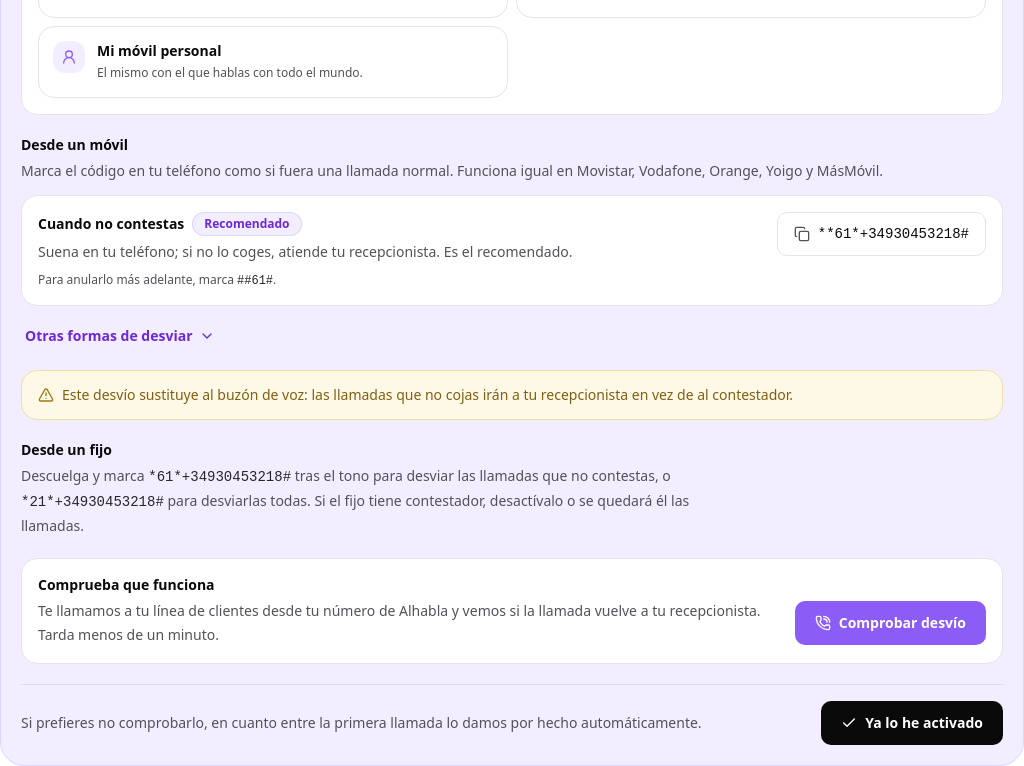
it: CallForwardingCard · «Comprobar desvío» › si no llega respuesta en 25 consultas (50 s) lo dice y ofrece repetir
(page scrolled)
Click the button "Comprobar desvío" at (890, 623), box [795,601,986,645]
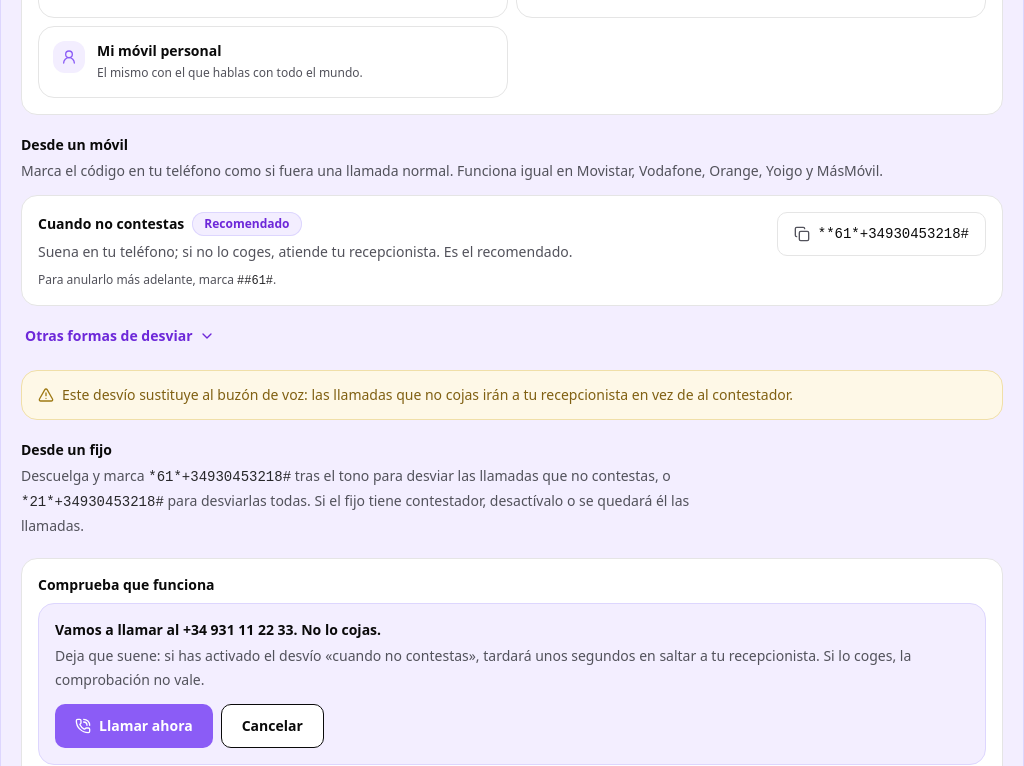
Click the button "Llamar ahora" at (134, 726), box [55,704,213,748]
Wait 52000 ms
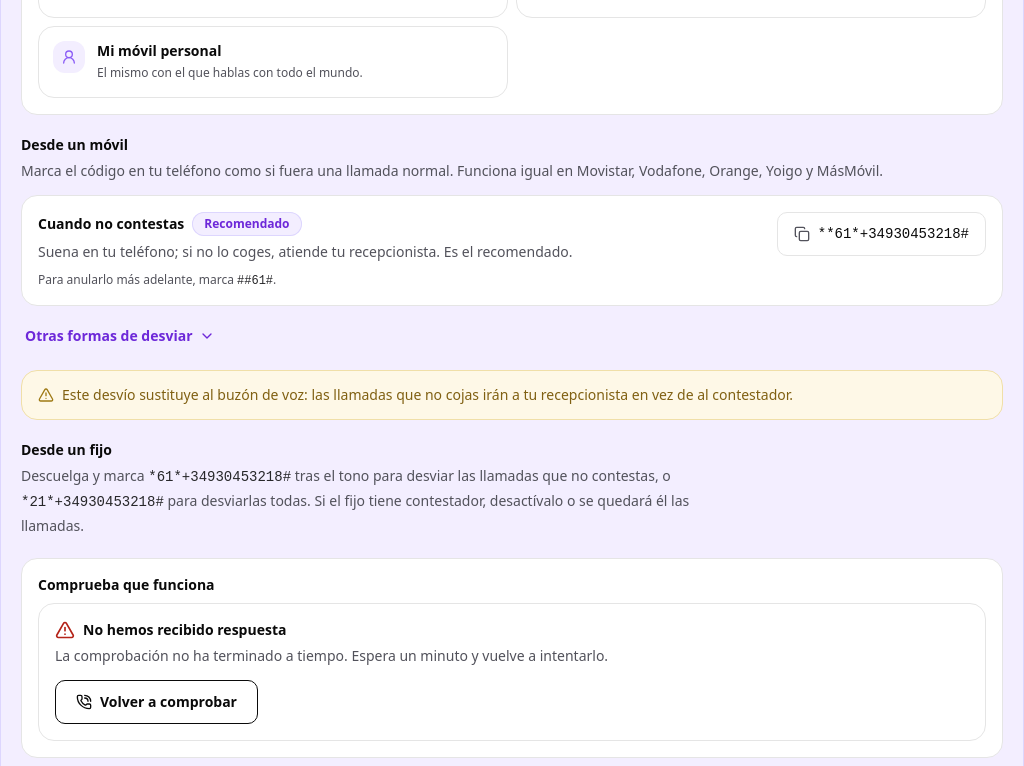
Now the text "No hemos recibido respuesta" is shown, box [55,620,286,640]
Now the button "Volver a comprobar" is shown, box [55,680,258,724]
